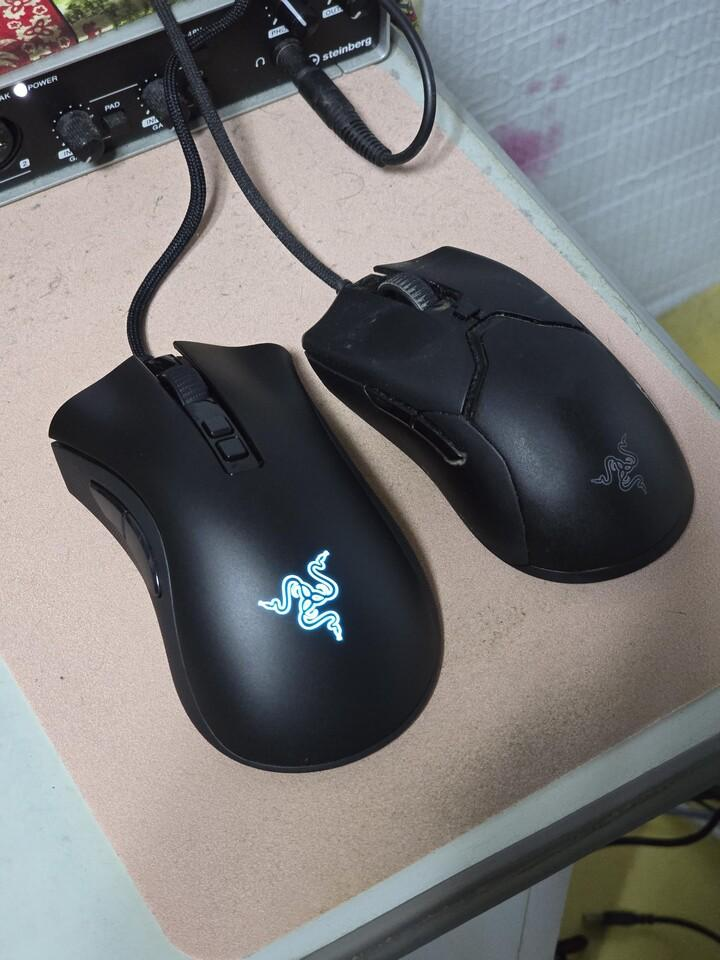mouse: (48, 338, 446, 773), (306, 253, 693, 577)
